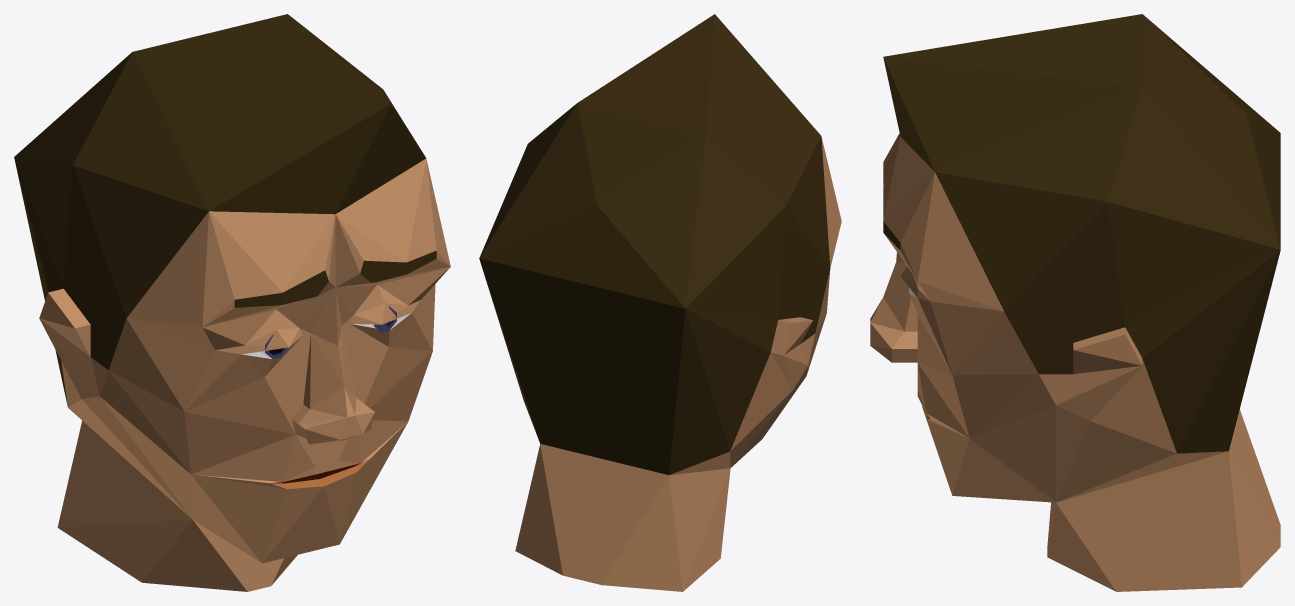
File: model_67_idk_head.obj
3 views of the same model, side by side, from view 1: azimuth 30°, elevation 25°; view 2: azimuth 150°, elevation 25°; view 3: azimuth 270°, elevation 25° (orthographic). The views are drawn at different scales.
Visible parts, largest first — view 1: 67; view 2: 67; view 3: 67.
Boxes of the visible parts, x1=… form: 67: x1=14, y1=14, x2=450, y2=591; 67: x1=479, y1=14, x2=841, y2=591; 67: x1=870, y1=14, x2=1280, y2=591.
Size of the model in its own units: 88 by 132 by 95.
